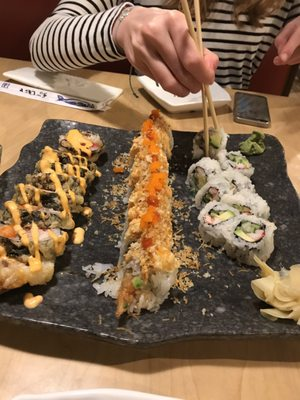curry: (0, 60, 300, 376), (232, 89, 272, 128)
